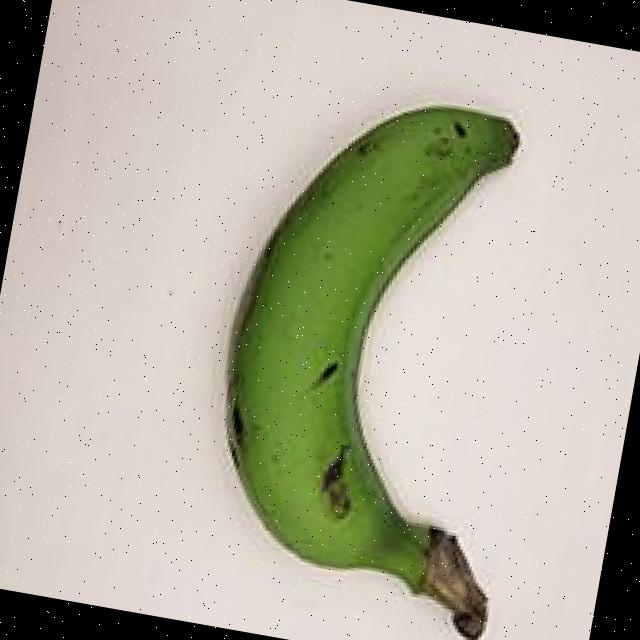Raw: (156, 51, 601, 640)
